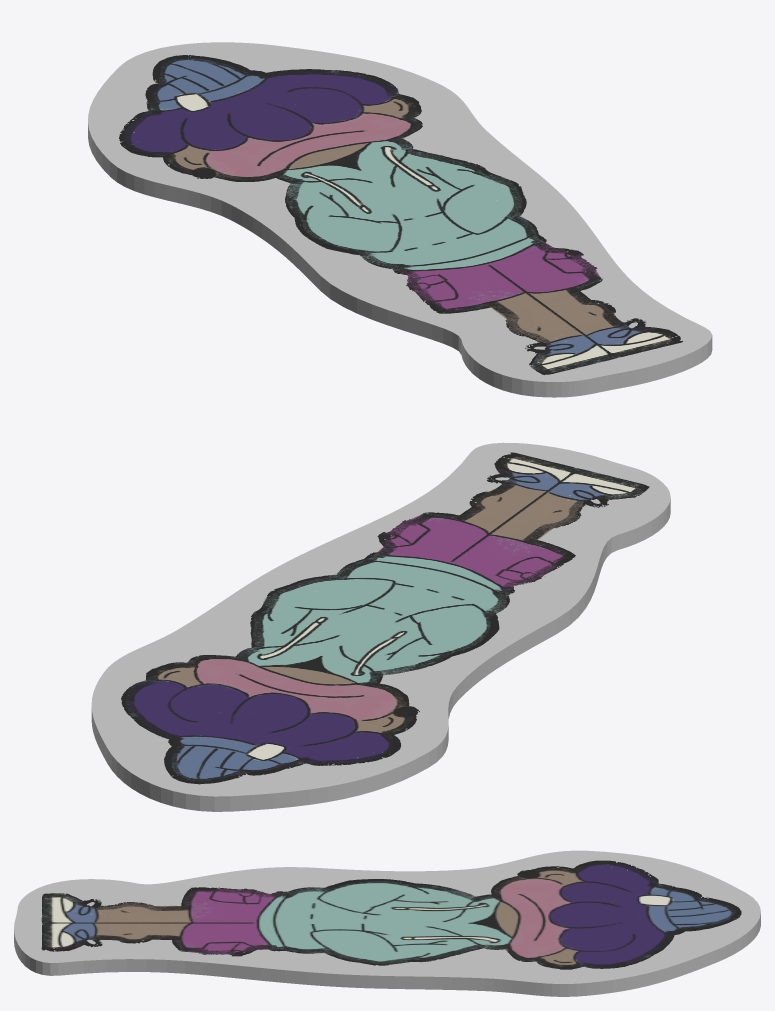
Rendered from teen1.fbx.
The picture shows the model from 3 angles, top to bottom: view 1: azimuth 30°, elevation 25°; view 2: azimuth 150°, elevation 25°; view 3: azimuth 270°, elevation 25°; orthographic projection. The views are drawn at different scales.
Parts seen in each view (by area): view 1: Teeen 1, BezierCurve; view 2: Teeen 1, BezierCurve; view 3: Teeen 1, BezierCurve.
Part boxes in pixels (x1,y1,x2,y2): Teeen 1: [119, 55, 682, 374]; BezierCurve: [88, 42, 712, 397]; Teeen 1: [121, 452, 649, 784]; BezierCurve: [91, 442, 670, 811]; Teeen 1: [41, 860, 741, 969]; BezierCurve: [14, 850, 760, 996].
Bounding box in the file's own units: 44.79 × 2.01 × 106.
